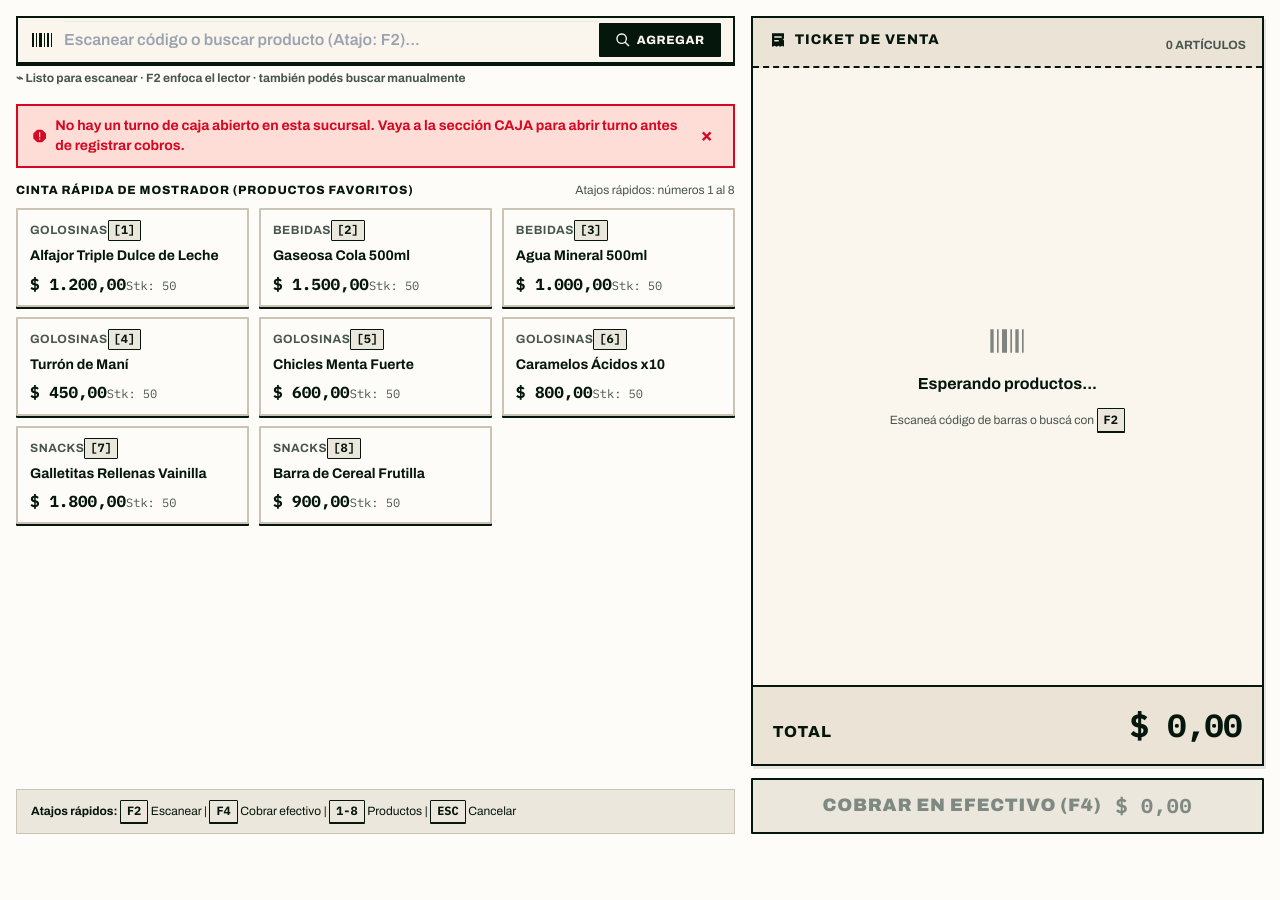
Test: SalesScreen Operational Flow › Dynamic Product Search & Filtering › visually filters quick products while typing
Expected: the text "Agua Mineral 500ml" is shown, [516, 247, 647, 265]
Expected: the text "Alfajor Triple Dulce de Leche" is shown, [30, 247, 219, 265]
# Type "agua"
Type "agua" into the field with placeholder "Escanear código o buscar producto (Atajo: F2)..." at (331, 40), box [64, 21, 599, 59]
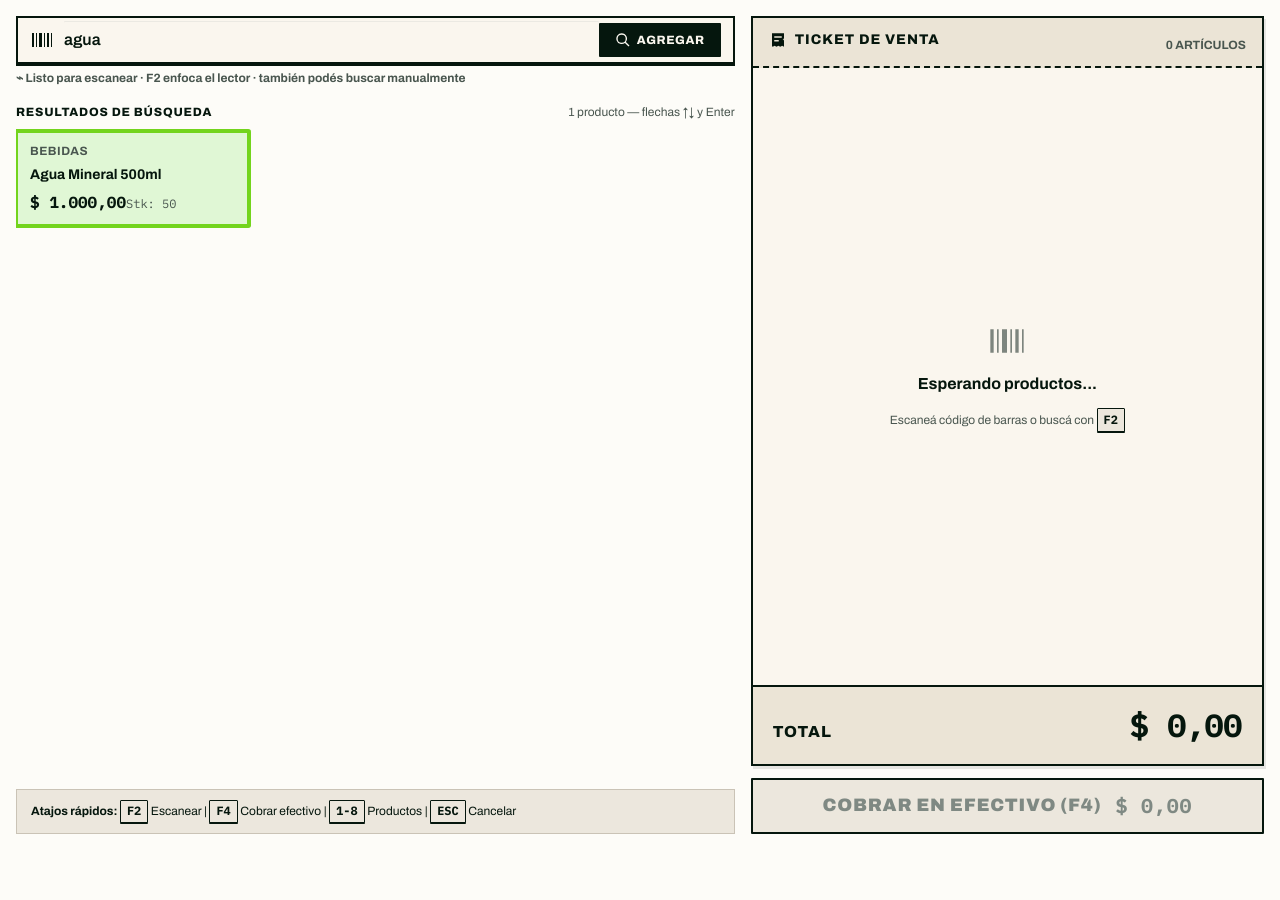
Expected: the text "Agua Mineral 500ml" is shown, [30, 166, 162, 184]
Now the button "Alfajor Triple Dulce de Leche" is gone
